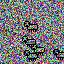sheep: (30, 44, 46, 56), (23, 49, 39, 61), (23, 20, 38, 32), (22, 36, 36, 47), (52, 48, 64, 60)
